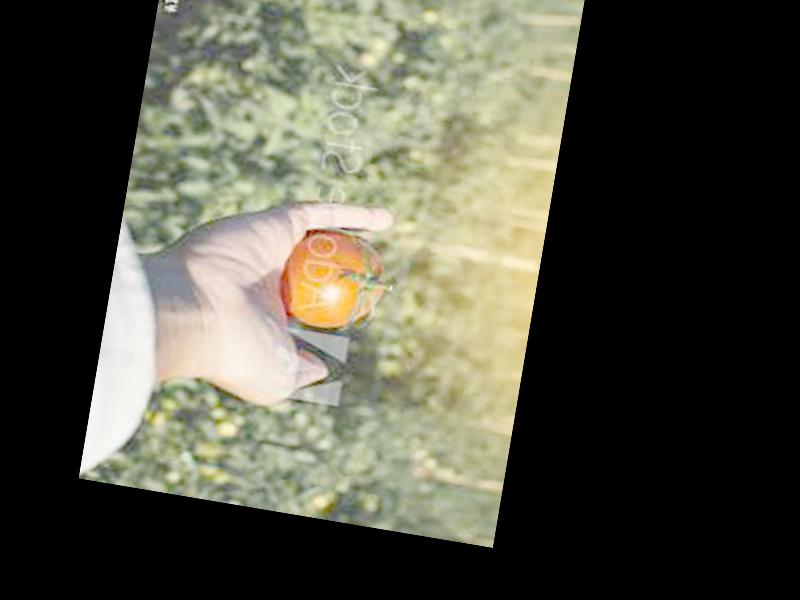Tomato: (279, 223, 390, 333)
